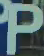Parking: (0, 1, 40, 54)
